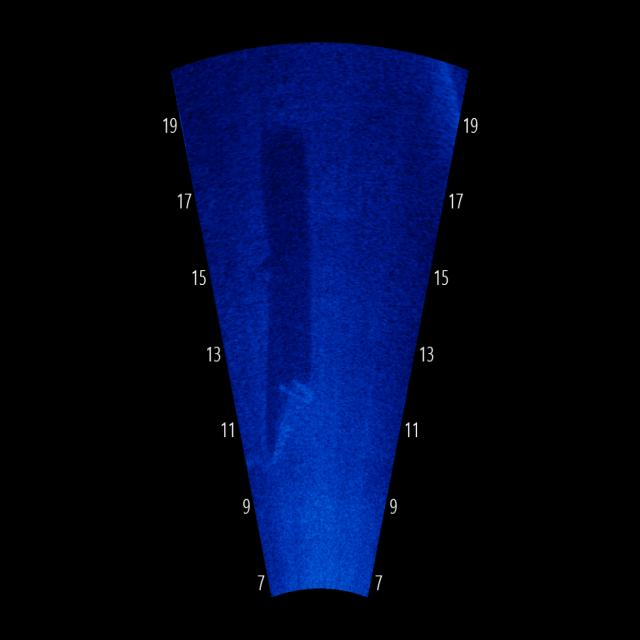triangle: (266, 361, 322, 470)
